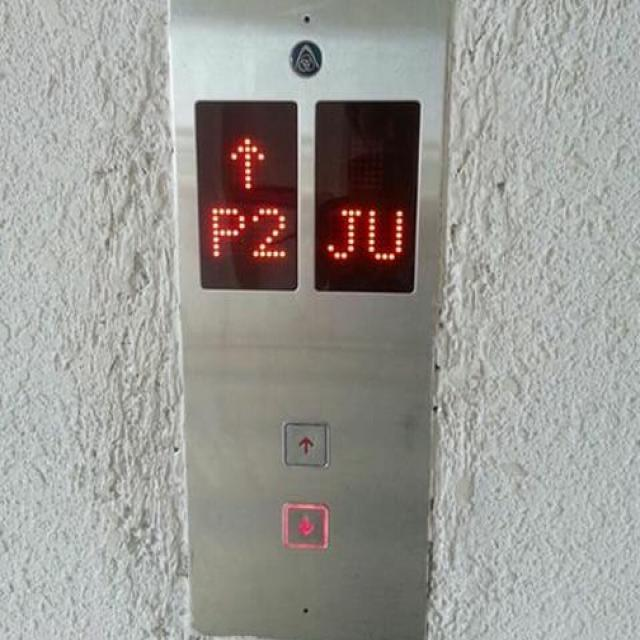down: (281, 500, 329, 549)
led: (310, 93, 423, 296), (189, 94, 301, 294)
unknown: (286, 37, 324, 76)
up: (279, 420, 329, 468)
